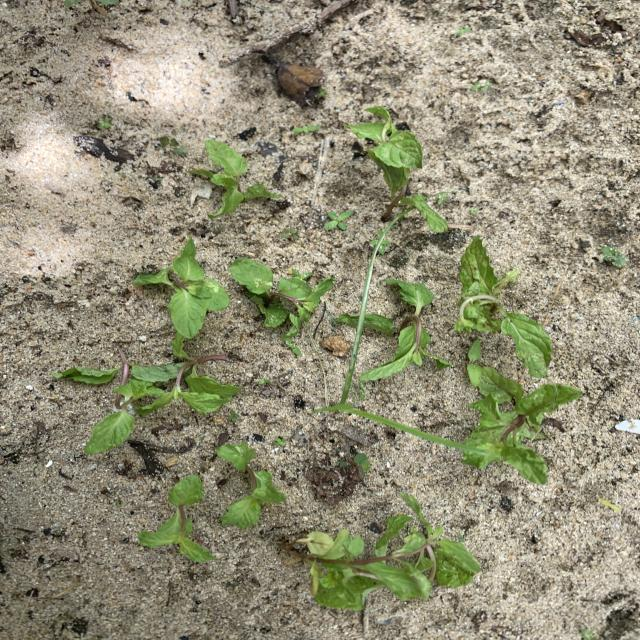crop: (298, 494, 479, 610), (463, 366, 579, 483), (53, 350, 182, 454), (455, 237, 550, 377), (348, 106, 446, 231), (135, 237, 227, 338), (359, 280, 450, 381), (232, 257, 331, 346), (140, 333, 239, 416), (189, 141, 278, 216), (139, 476, 214, 560), (217, 442, 284, 526)
weed: (314, 228, 472, 453), (339, 452, 370, 475), (468, 340, 482, 386), (160, 137, 187, 155), (602, 246, 626, 265), (326, 211, 349, 229), (372, 231, 389, 254), (598, 498, 620, 511), (471, 81, 491, 91), (281, 228, 298, 239), (294, 125, 318, 132), (453, 27, 470, 35), (435, 193, 447, 204), (228, 411, 238, 422), (98, 119, 111, 127), (275, 437, 285, 446), (258, 379, 269, 383)
